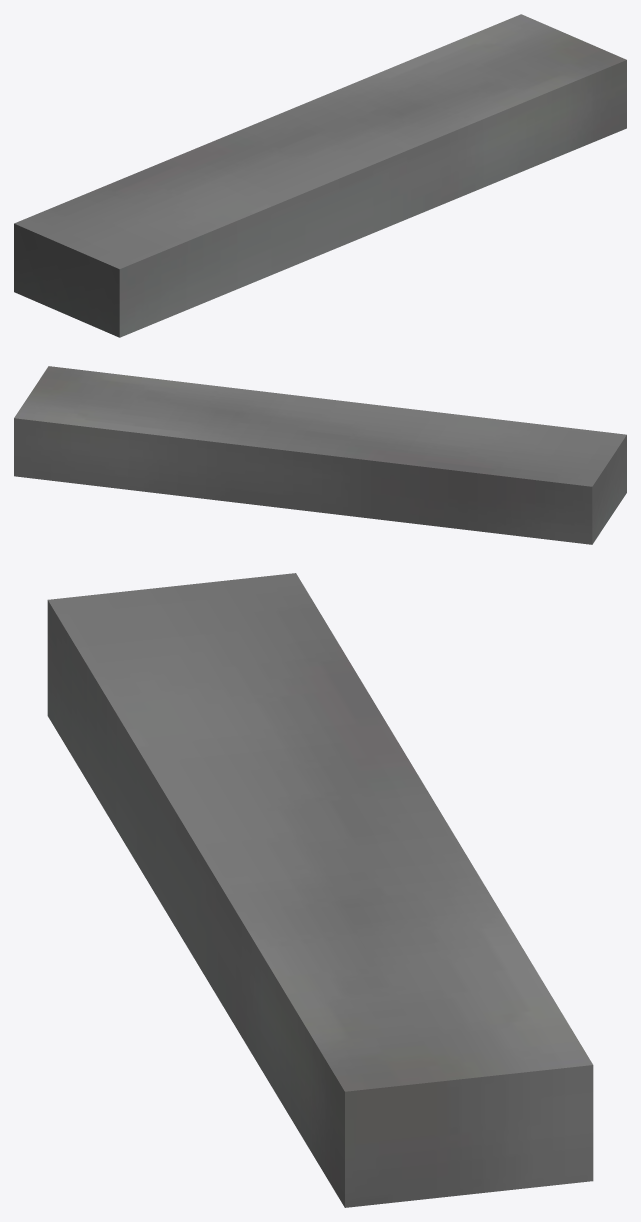
File: pump_body__gauge_tick_3.glb
3 views of the same model, one above another, from view 1: azimuth 30°, elevation 25°; view 2: azimuth 150°, elevation 25°; view 3: azimuth 270°, elevation 25° (orthographic). The views are drawn at different scales.
Visible parts, largest first — view 1: geometry_0; view 2: geometry_0; view 3: geometry_0.
Part boxes in pixels (x1,y1,x2,y2): geometry_0: (14,14,626,337); geometry_0: (14,366,626,544); geometry_0: (47,573,593,1207).
Size of the model in its own units: 0.0153 by 0.0016 by 0.00681.
Materials: 1 (1 with a texture image).
